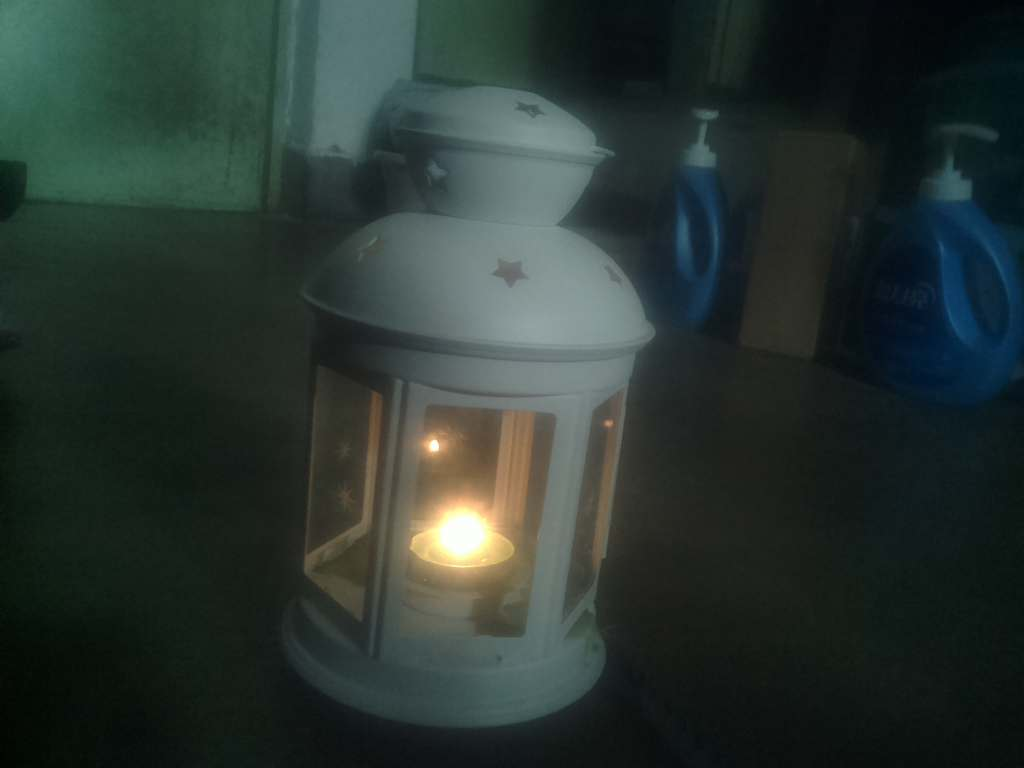fire: (407, 497, 537, 602)
